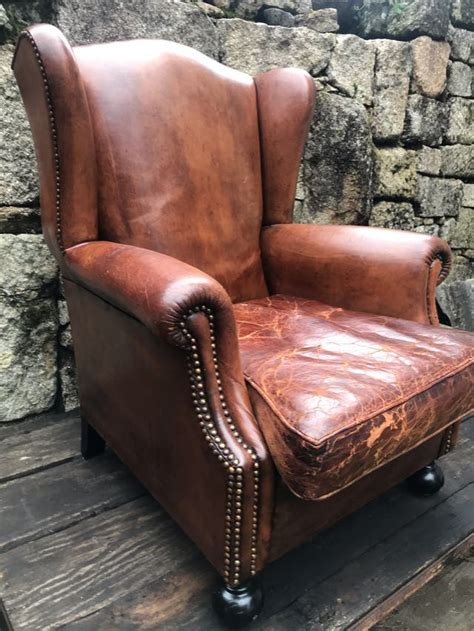cuero: (10, 22, 474, 587)
